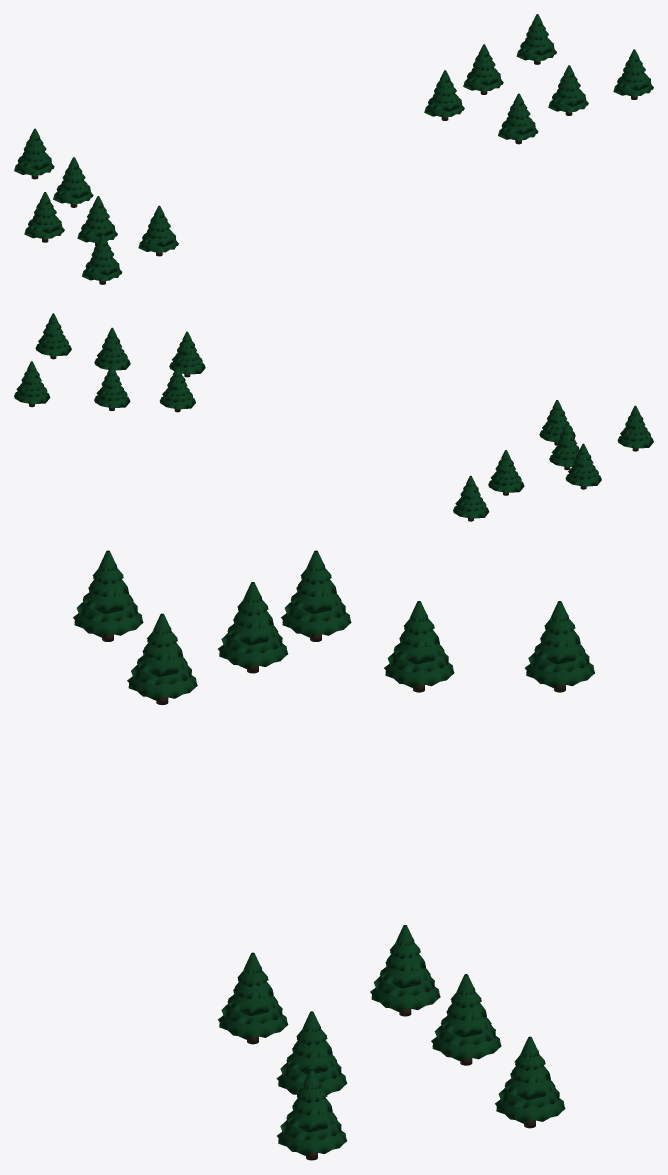
The model's file is ARBOLESN.obj.
The picture shows the model from 3 angles, top to bottom: view 1: azimuth 30°, elevation 25°; view 2: azimuth 150°, elevation 25°; view 3: azimuth 270°, elevation 25°; orthographic projection. The views are drawn at different scales.
Visible parts, largest first — view 1: no part large enough to name; view 2: no part large enough to name; view 3: pasted__group5 group9 Christmas_Tree10:Cone006, group6 Christmas_Tree7:Cone006, Christmas_Tree6:Cone006 group5, Christmas_Tree:Cone006, group3 Christmas_Tree4:Cone006, group8 Christmas_Tree9:Cone006, group7 Christmas_Tree8:Cone006, pasted__group7 group11 Christmas_Tree12:Cone006, group4 Christmas_Tree5:Cone006, Christmas_Tree2:Cone006 group1, group Christmas_Tree1:Cone006.
Boxes of the visible parts, box(x1,y1,x2,y2) form: pasted__group5 group9 Christmas_Tree10:Cone006: box(73, 612, 143, 637); group6 Christmas_Tree7:Cone006: box(431, 1036, 501, 1060); Christmas_Tree6:Cone006 group5: box(281, 612, 351, 637); Christmas_Tree:Cone006: box(217, 1014, 288, 1039); group3 Christmas_Tree4:Cone006: box(495, 1098, 565, 1123); group8 Christmas_Tree9:Cone006: box(127, 675, 197, 700); group7 Christmas_Tree8:Cone006: box(384, 662, 454, 687); pasted__group7 group11 Christmas_Tree12:Cone006: box(525, 662, 594, 687); group4 Christmas_Tree5:Cone006: box(277, 1130, 346, 1155); Christmas_Tree2:Cone006 group1: box(218, 643, 287, 668); group Christmas_Tree1:Cone006: box(370, 986, 440, 1011).
Bounding box in the file's own units: 437 × 32.74 × 176.
Materials: 24 (24 with a texture image).
